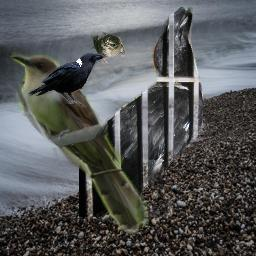Crow: (79, 7, 203, 217), (28, 53, 104, 108)
Cuckoo: (9, 51, 149, 234)
Swallow: (89, 32, 125, 64)
